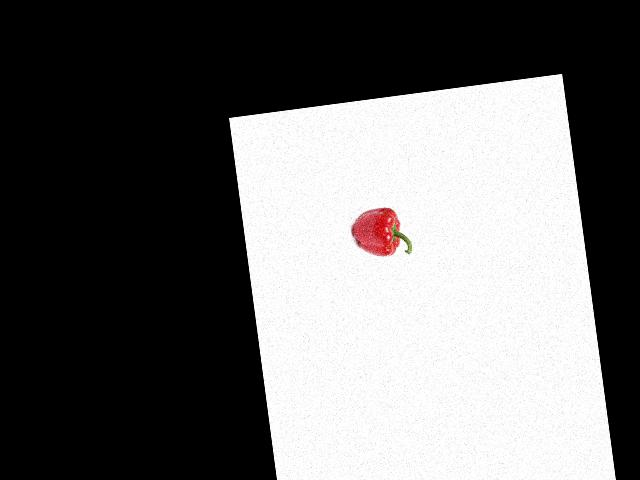bell_pepper: (348, 200, 414, 264)
